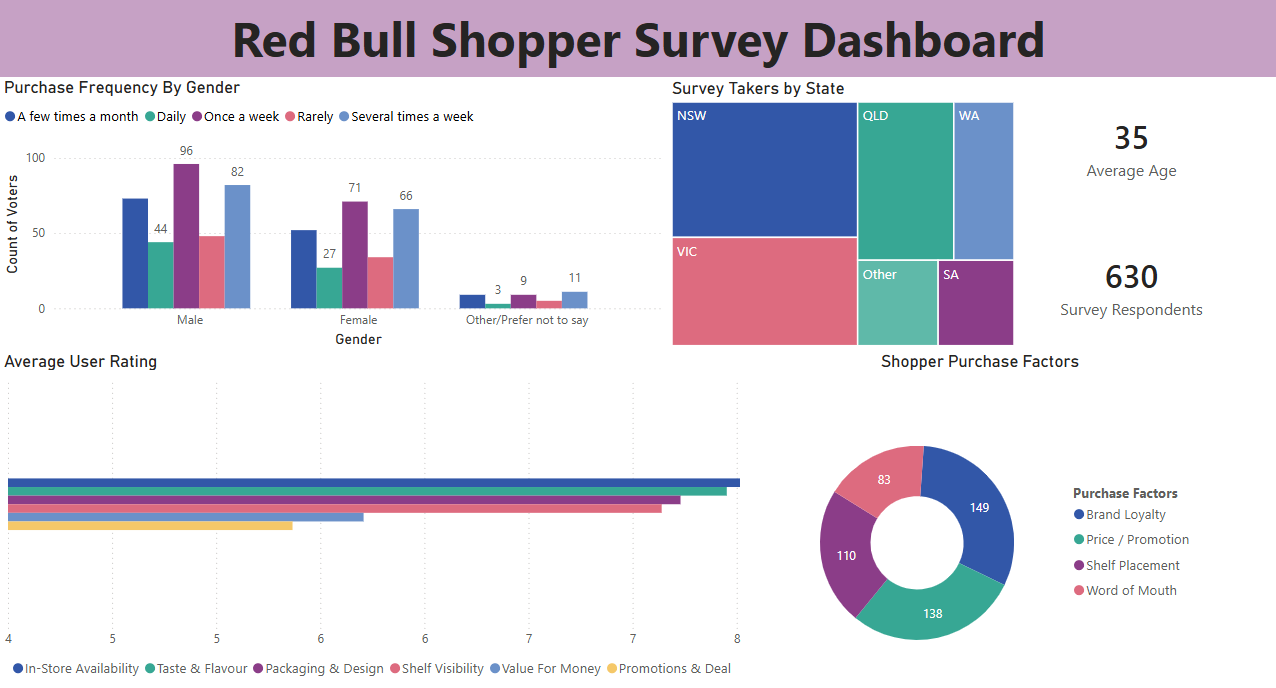

The dashboard page shown, as its layout file describes it:
{"tool":"powerbi","page":{"name":"Page 1","canvas":[1280,720],"ordinal":0},"visuals":[{"type":"textbox","box":[0,0,1279.1,76.6],"z":0},{"type":"cardVisual","fields":{"Data":["CountNonNull(Sheet1.Unique ID)"]},"box":[1020,216,225,140],"z":1000},{"type":"cardVisual","fields":{"Data":["Avg(Sheet1.Q10 - Current Age)"]},"box":[1020,78,225,139],"z":2000},{"type":"donutChart","title":"Shopper Purchase Factors","fields":{"Category":["Sheet1.Q5 - What triggered your purchase today?.1"],"Y":["CountNonNull(Sheet1.Unique ID)"]},"box":[757,351,448,362],"z":3000},{"type":"treemap","title":"Survey Takers by State","fields":{"Details":["Sheet1.Q11 - Which State / Region are you based in?.1"],"Values":["CountNonNull(Sheet1.Unique ID)"]},"box":[668,78,352,273],"z":4000},{"type":"clusteredColumnChart","title":"Purchase Frequency By Gender","fields":{"Category":["Sheet1.Q9 - Gender (groups)"],"Series":["Sheet1.Q12 - How often do you purchase energy drinks?"],"Y":["CountNonNull(Sheet1.Unique ID)"]},"box":[0,77,668,274],"z":5000},{"type":"clusteredBarChart","title":"Average User Rating","fields":{"Y":["Sheet1.Average In-Store Availability Rating","Sheet1.Average Taste & Flavour Rating","Sheet1.Average Packaging & Design Rating","Sheet1.Average Shelf Visibility Rating","Sheet1.Average Value For Money Rating","Sheet1.Average Promotions & Deal Rating"]},"box":[0,351,750,336],"z":5001}]}

Visuals, with their boxes on the page's 1280x720 design canvas (x1, y1, x2, y2). These are canvas units, not pixel positions in the 1276x688 screenshot, which may show the page scaled, cropped or inside an application window:
textbox: [0, 0, 1279, 77]
cardVisual - CountNonNull(Sheet1.Unique ID): [1020, 216, 1245, 356]
cardVisual - Avg(Sheet1.Q10 - Current Age): [1020, 78, 1245, 217]
"Shopper Purchase Factors" donutChart: [757, 351, 1205, 713]
"Survey Takers by State" treemap: [668, 78, 1020, 351]
"Purchase Frequency By Gender" clusteredColumnChart: [0, 77, 668, 351]
"Average User Rating" clusteredBarChart: [0, 351, 750, 687]
